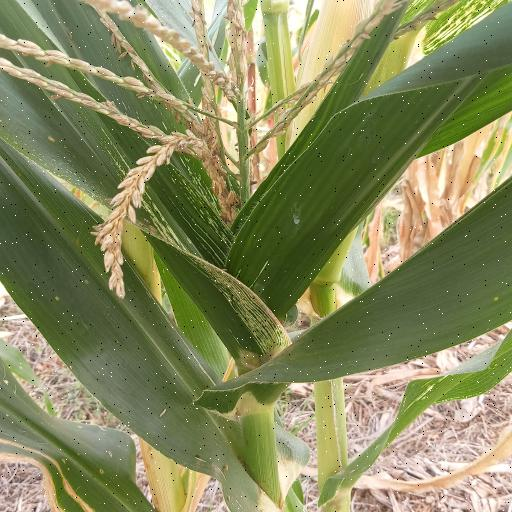Corn_Streak: (0, 0, 298, 377)
